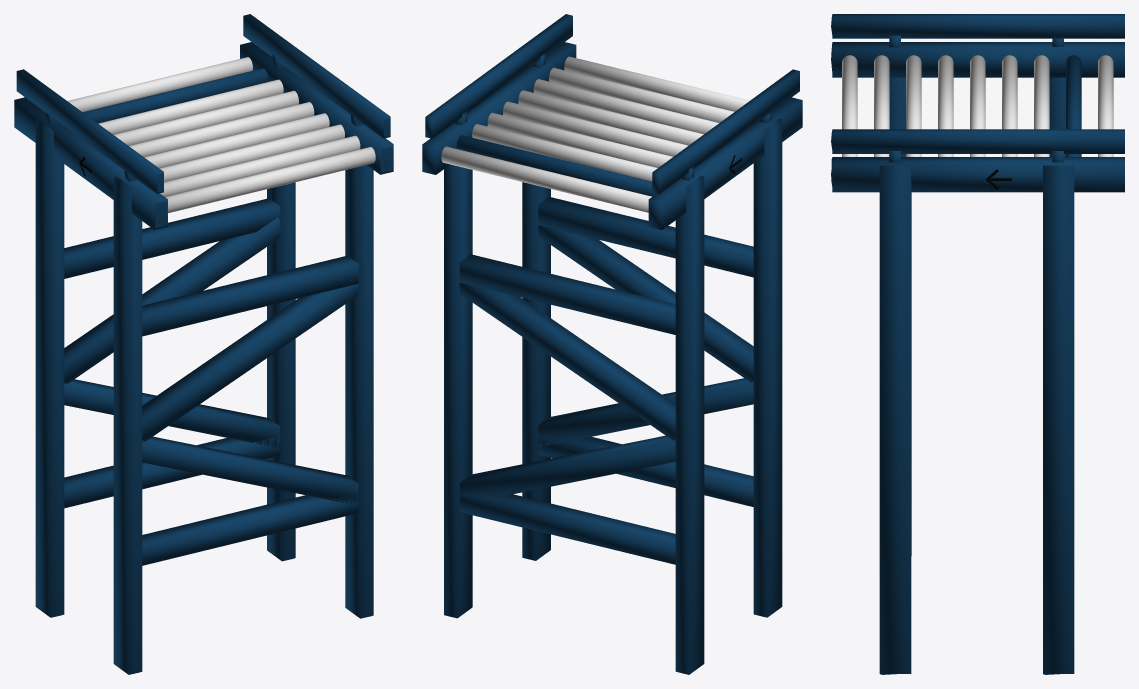
Rendered from Tall Straight  conveyor.glb.
3 views of the same model, side by side, from view 1: azimuth 30°, elevation 25°; view 2: azimuth 150°, elevation 25°; view 3: azimuth 270°, elevation 25° (orthographic). The views are drawn at different scales.
Parts seen in each view (by area): view 1: Belt.050, Belt.086, Belt.047, Belt.062, Belt.059, Belt.063, Belt.042, Belt.052, Belt.054, Belt.055, Belt.065, Belt.056 (+13 smaller); view 2: Belt.086, Belt.050, Belt.042, Belt.054, Belt.055, Belt.053, Belt.047, Belt.056, Belt.059, Belt.062, Belt.065, Belt.052 (+13 smaller); view 3: Belt.047, Belt.042, Belt.041, Belt.065, Belt.080, Belt.085, Belt.050, Belt.043, Belt.044, Belt.045, Belt.046, Belt.048 (+5 smaller).
Part boxes in pixels (x1=…): Belt.050: x1=113, y1=176, x2=142, y2=674; Belt.086: x1=35, y1=119, x2=64, y2=617; Belt.047: x1=345, y1=165, x2=373, y2=618; Belt.062: x1=142, y1=280, x2=358, y2=442; Belt.059: x1=142, y1=255, x2=358, y2=336; Belt.063: x1=142, y1=495, x2=358, y2=565; Belt.042: x1=267, y1=182, x2=295, y2=561; Belt.052: x1=142, y1=436, x2=358, y2=505; Belt.054: x1=64, y1=217, x2=280, y2=383; Belt.055: x1=64, y1=198, x2=280, y2=278; Belt.065: x1=14, y1=97, x2=167, y2=229; Belt.056: x1=64, y1=379, x2=280, y2=447; Belt.086: x1=675, y1=176, x2=704, y2=674; Belt.050: x1=753, y1=118, x2=782, y2=617; Belt.042: x1=444, y1=164, x2=472, y2=618; Belt.054: x1=459, y1=282, x2=675, y2=441; Belt.055: x1=459, y1=254, x2=675, y2=334; Belt.053: x1=459, y1=492, x2=675, y2=564; Belt.047: x1=522, y1=182, x2=550, y2=560; Belt.056: x1=459, y1=435, x2=675, y2=499; Belt.059: x1=538, y1=197, x2=753, y2=277; Belt.062: x1=538, y1=225, x2=753, y2=382; Belt.065: x1=648, y1=97, x2=802, y2=230; Belt.052: x1=538, y1=378, x2=753, y2=446; Belt.047: x1=879, y1=165, x2=911, y2=674; Belt.042: x1=1043, y1=165, x2=1074, y2=674; Belt.041: x1=831, y1=157, x2=1124, y2=192; Belt.065: x1=831, y1=42, x2=1124, y2=77; Belt.080: x1=831, y1=14, x2=1124, y2=38; Belt.085: x1=831, y1=129, x2=1124, y2=153; Belt.050: x1=889, y1=77, x2=911, y2=555; Belt.043: x1=842, y1=55, x2=857, y2=156; Belt.044: x1=874, y1=55, x2=889, y2=156; Belt.045: x1=906, y1=55, x2=921, y2=156; Belt.046: x1=938, y1=55, x2=953, y2=156; Belt.048: x1=1002, y1=55, x2=1017, y2=156.
Size of the model in its own units: 8.04 by 16.28 by 8.01.
